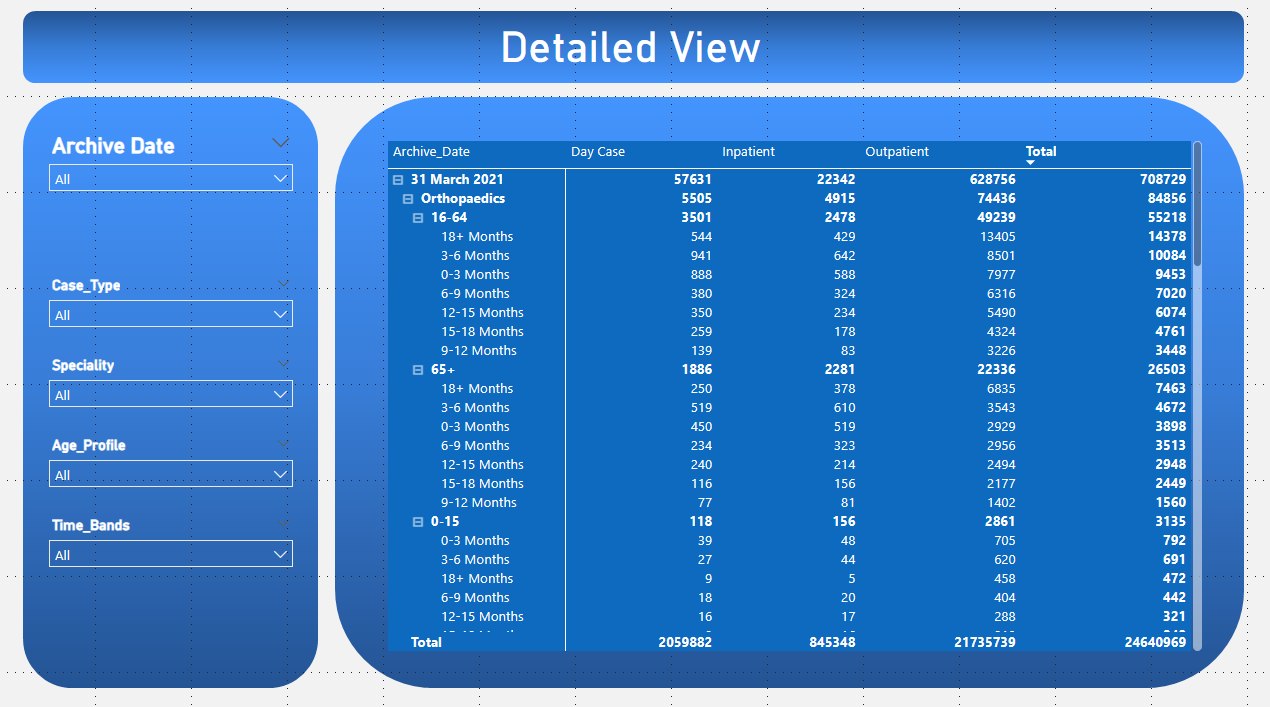

The dashboard page shown, as its layout file describes it:
{"tool":"powerbi","page":{"name":"Detailed View","canvas":[1280,720],"ordinal":1},"visuals":[{"type":"slicer","fields":{"Values":["Combined Data.Speciality"]},"box":[40,352,264,80],"z":0},{"type":"slicer","fields":{"Values":["Combined Data.Case_Type"]},"box":[40,272,264,80],"z":1000},{"type":"slicer","fields":{"Values":["Combined Data.Archive_Date"]},"box":[40,128,264,88],"z":2000},{"type":"slicer","fields":{"Values":["Combined Data.Age_Profile"]},"box":[40,432,264,80],"z":3000},{"type":"slicer","fields":{"Values":["Combined Data.Time_Bands"]},"box":[40,512,264,80],"z":4000},{"type":"pivotTable","fields":{"Rows":["Combined Data.Archive_Date","Combined Data.Speciality","Combined Data.Age_Profile","Combined Data.Time_Bands"],"Columns":["Combined Data.Case_Type"],"Values":["Sum(Combined Data.Total)"]},"box":[384,136,824,520],"z":5000},{"type":"textbox","box":[496,0,344,88],"z":6000}]}

Visuals, with their boxes in screenshot pixels (x1, y1, x2, y2), scaled from the page's 1280x720 canvas onto the 1270x707 screenshot:
slicer - Combined Data.Speciality: bbox(40, 346, 302, 424)
slicer - Combined Data.Case_Type: bbox(40, 267, 302, 346)
slicer - Combined Data.Archive_Date: bbox(40, 126, 302, 212)
slicer - Combined Data.Age_Profile: bbox(40, 424, 302, 503)
slicer - Combined Data.Time_Bands: bbox(40, 503, 302, 581)
pivotTable - Combined Data.Archive_Date x Combined Data.Speciality: bbox(381, 134, 1199, 644)
textbox: bbox(492, 0, 833, 86)
